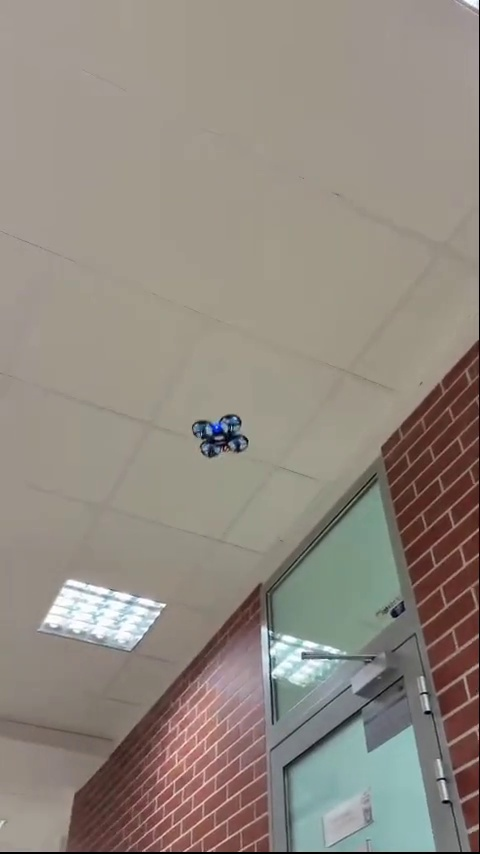drone: (195, 420, 251, 461)
